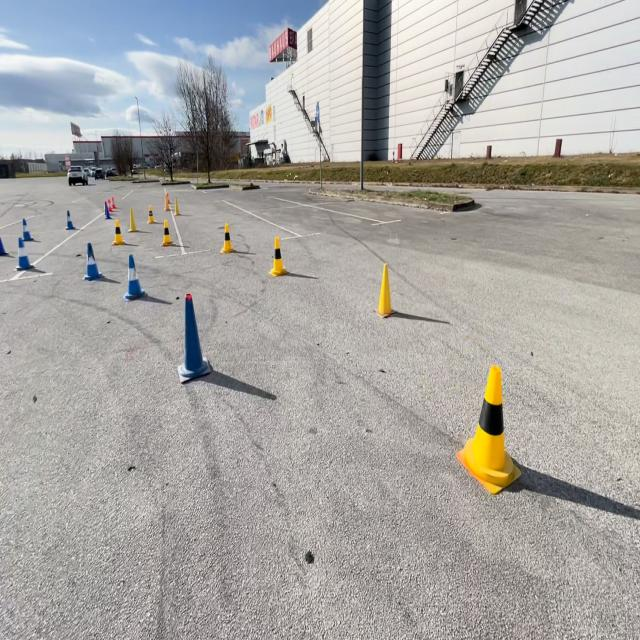blue_cone: (177, 291, 213, 383), (503, 0, 572, 40), (122, 252, 145, 300), (82, 240, 102, 280), (15, 235, 33, 270), (20, 212, 30, 246), (0, 222, 8, 256), (101, 197, 110, 224), (65, 208, 76, 229)
orange_cone: (162, 190, 170, 213), (110, 194, 116, 210)
yellow_cone: (454, 362, 522, 494), (373, 262, 396, 318), (266, 233, 288, 277), (219, 221, 235, 254), (160, 212, 175, 247), (111, 217, 126, 246), (126, 205, 138, 232), (146, 202, 156, 223), (172, 196, 181, 216)
